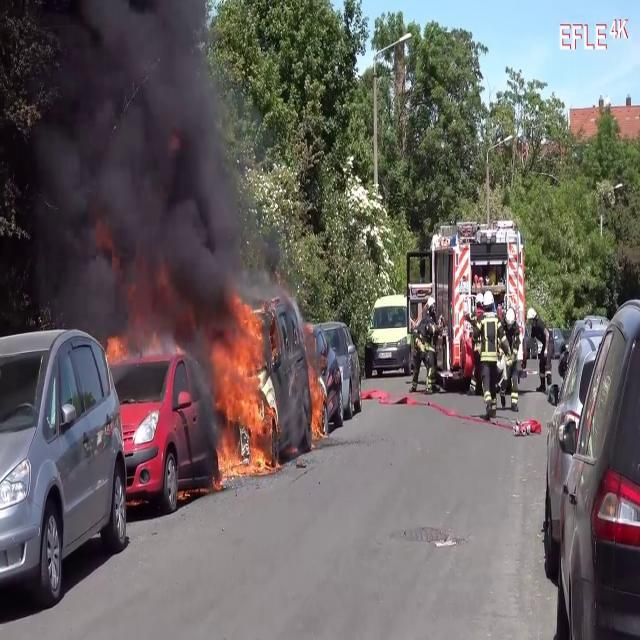Fire: (208, 299, 280, 481), (306, 361, 328, 443)
Smoke: (19, 1, 266, 340)
